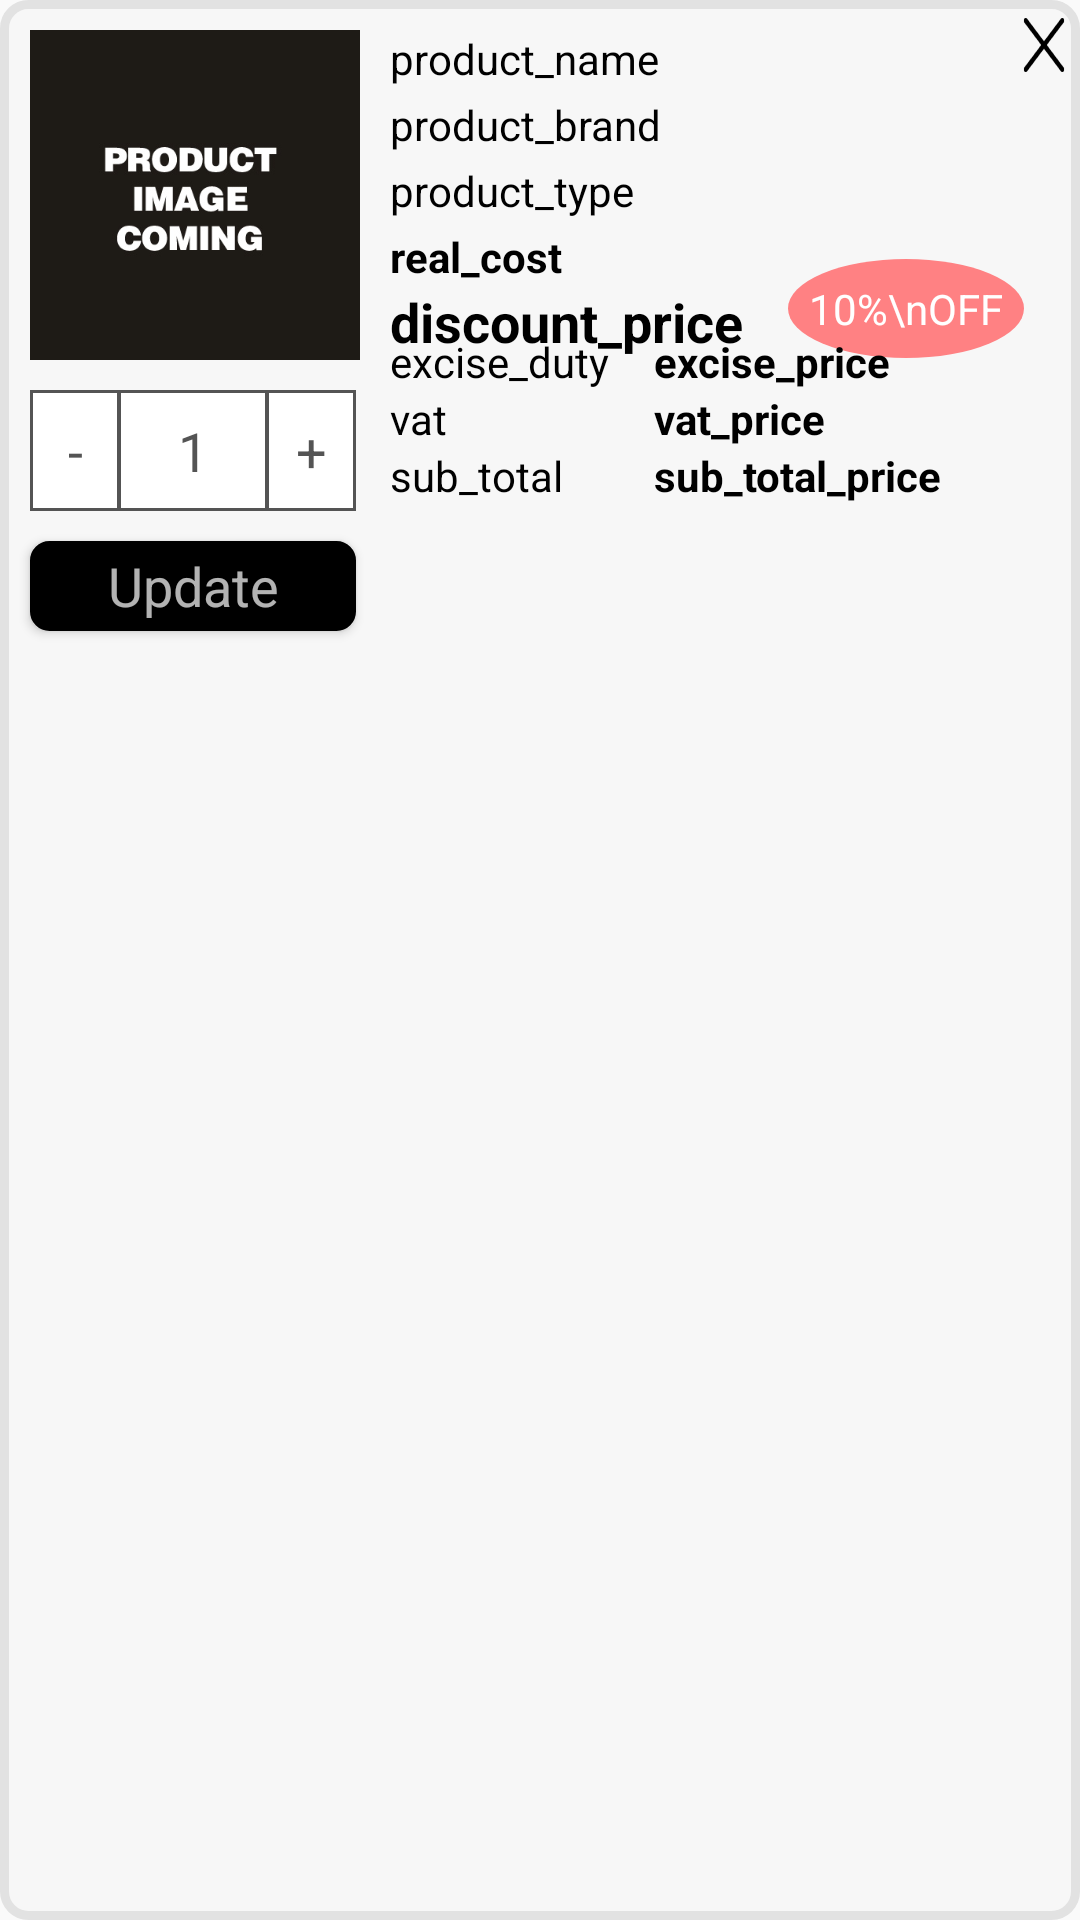

Where icons sit on this 1080 x 1920 app screen, as bbox=(x1, y1, x2, y2):
cancel: bbox=(1024, 18, 1064, 72)
